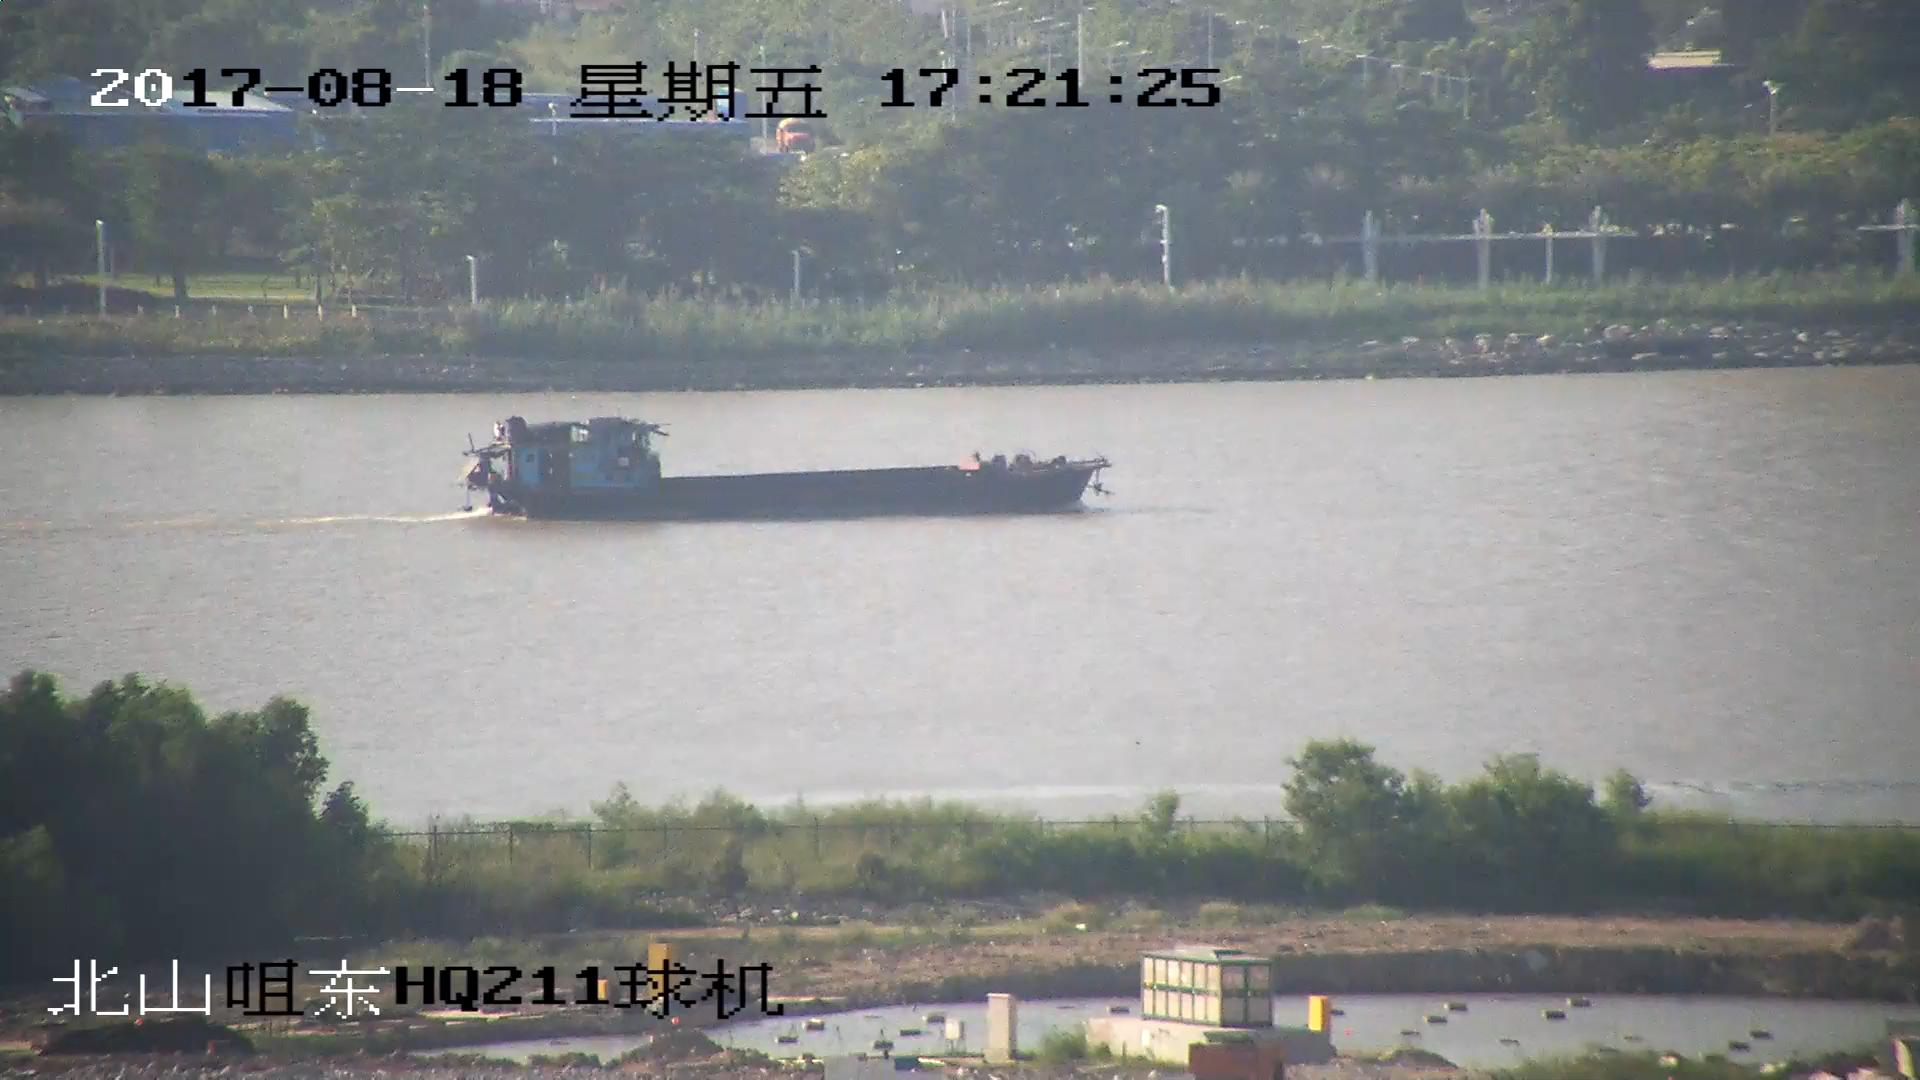bulk cargo carrier: (466, 419, 1111, 525)
